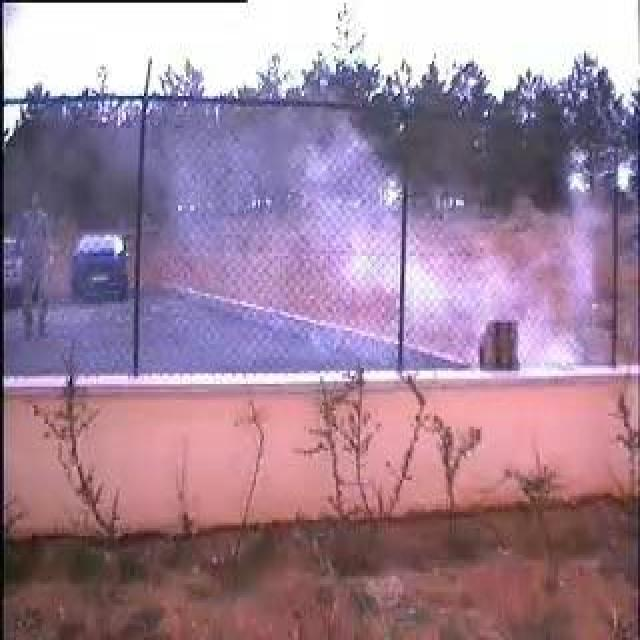Smoke: (302, 140, 592, 369)
